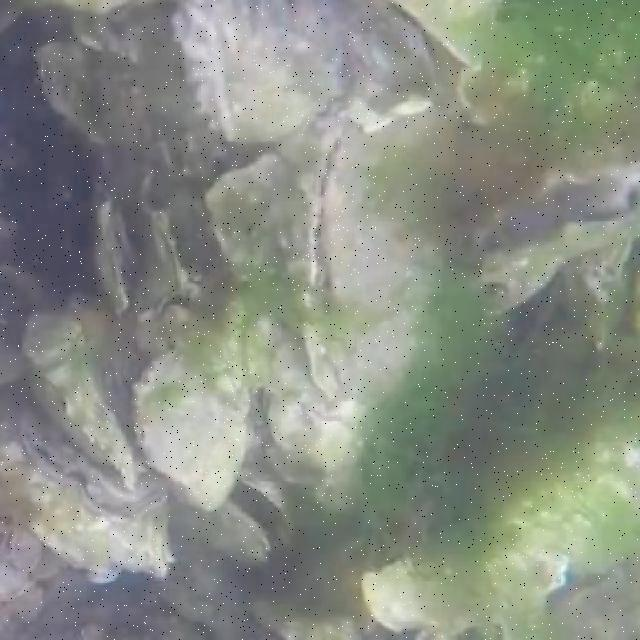Oyster-Closed: (172, 0, 343, 141), (1, 452, 171, 588), (21, 316, 145, 483), (135, 350, 248, 502), (32, 38, 143, 148), (203, 149, 291, 274)
Oyster-Open: (293, 100, 470, 410), (478, 169, 640, 294), (24, 408, 163, 526), (97, 169, 191, 319), (175, 475, 296, 582)
